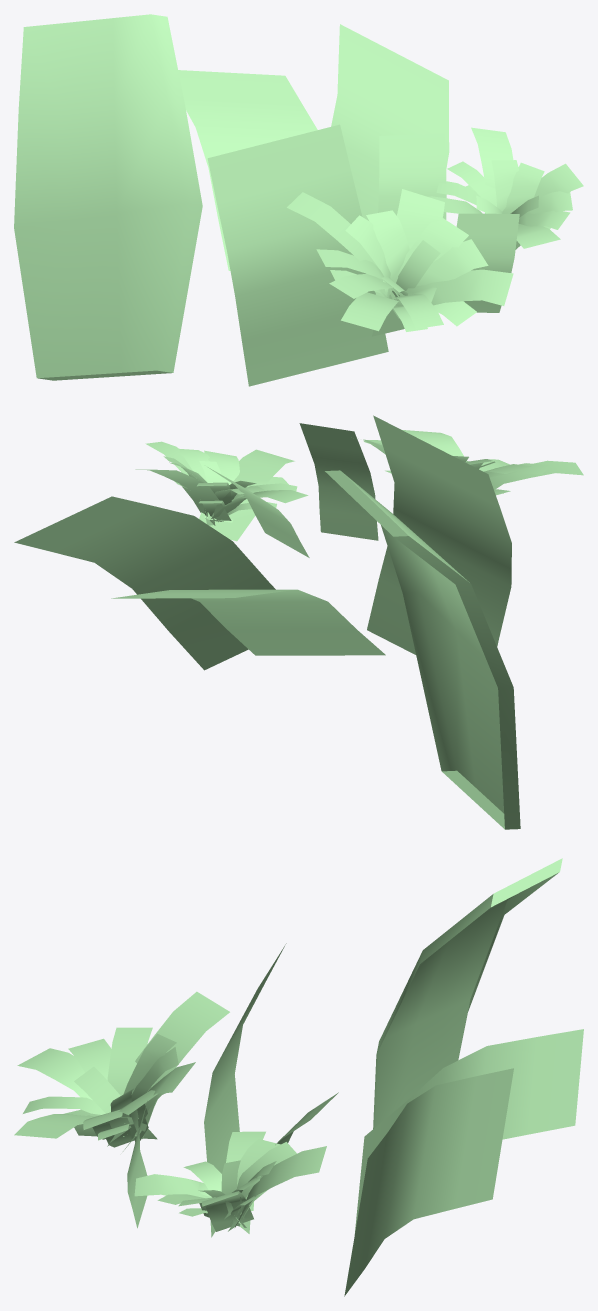
File: sm_2dplants_04.gltf
3 renders of one model, top to bottom at view 1: azimuth 30°, elevation 25°; view 2: azimuth 150°, elevation 25°; view 3: azimuth 270°, elevation 25°, orthographic. The views are drawn at different scales.
Parts seen in each view (by area): view 1: sm_2dplants_04; view 2: sm_2dplants_04; view 3: sm_2dplants_04.
Part boxes in pixels (x1,y1,x2,y2): sm_2dplants_04: [14, 14, 583, 386]; sm_2dplants_04: [14, 415, 583, 829]; sm_2dplants_04: [14, 858, 583, 1296].
Bounding box in the file's own units: 1.66 × 1.13 × 1.71.
